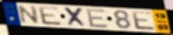8: (113, 10, 133, 30)
E: (38, 6, 65, 27), (131, 11, 158, 32), (86, 8, 111, 28)
N: (18, 5, 41, 24)
X: (63, 6, 89, 28)
